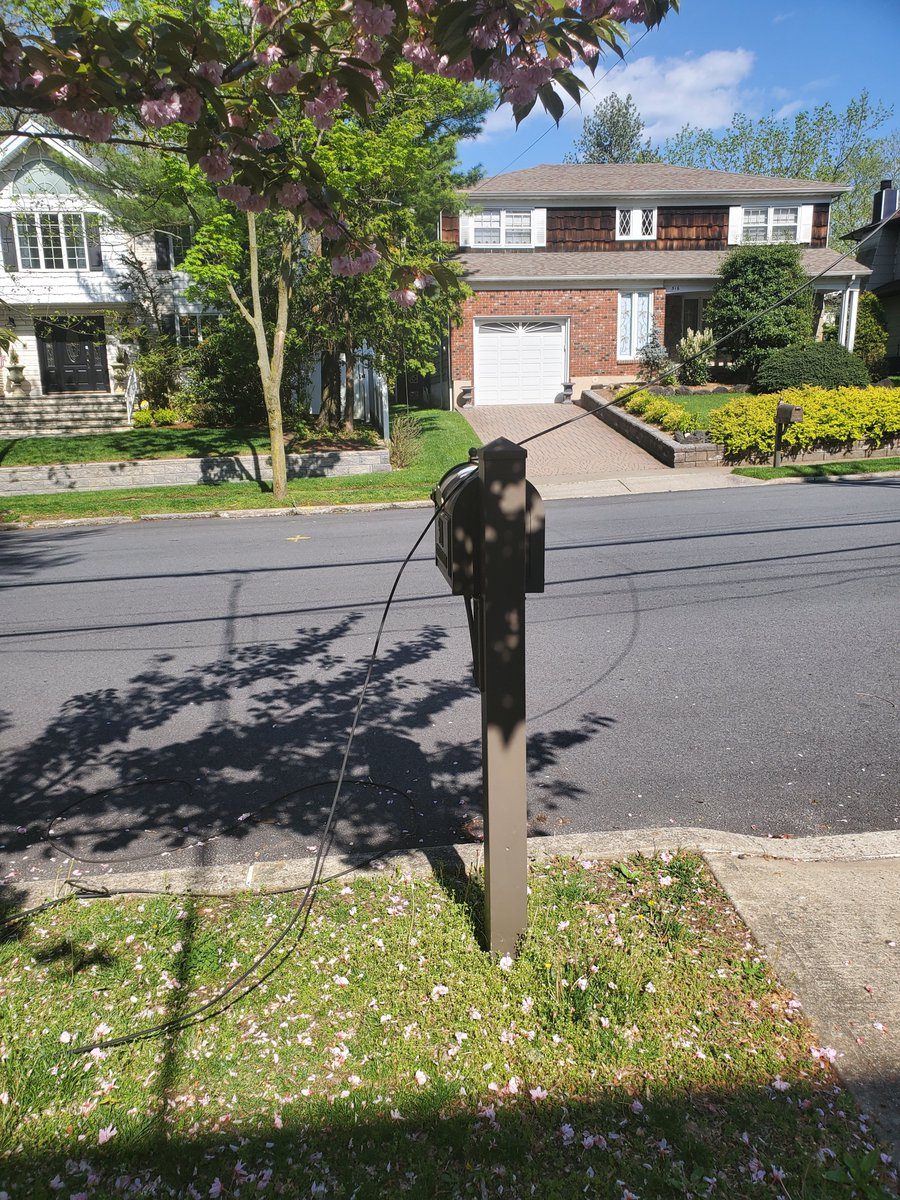building: (422, 164, 873, 412), (1, 98, 201, 444)
grass: (1, 870, 783, 1200)
mail box: (403, 423, 570, 990)
sky: (579, 1, 900, 157)
street: (14, 470, 900, 833)
tree: (96, 66, 466, 531)
